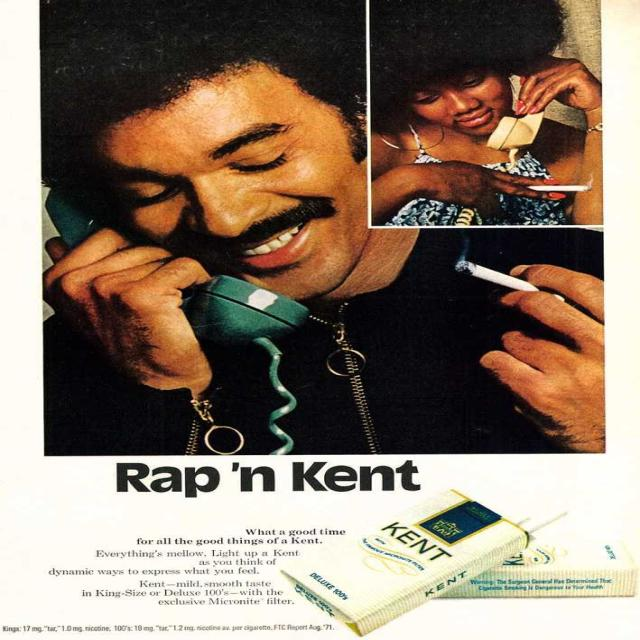Smooking: (448, 260, 564, 305)
